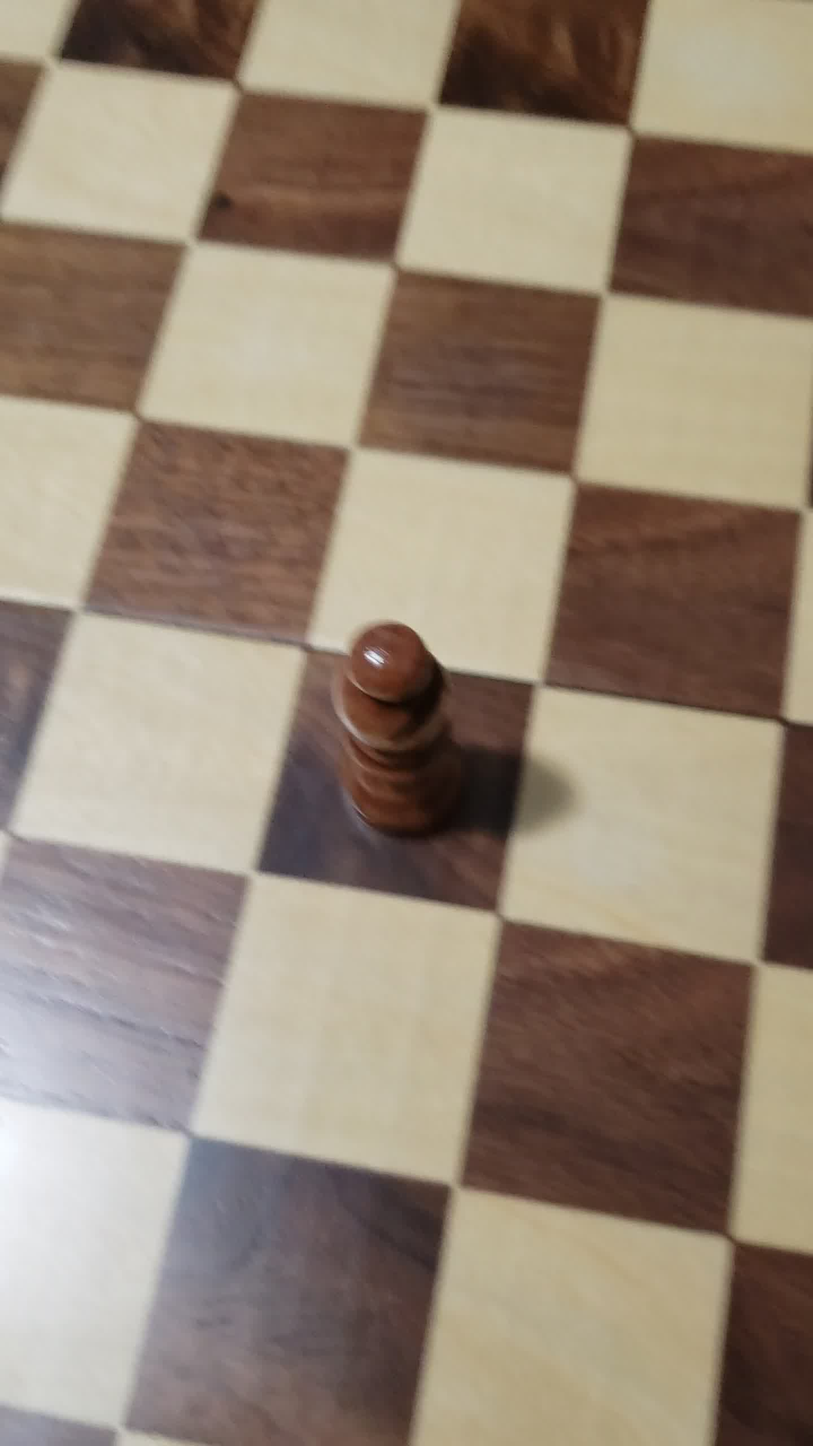black-bishop: (279, 602, 505, 881)
